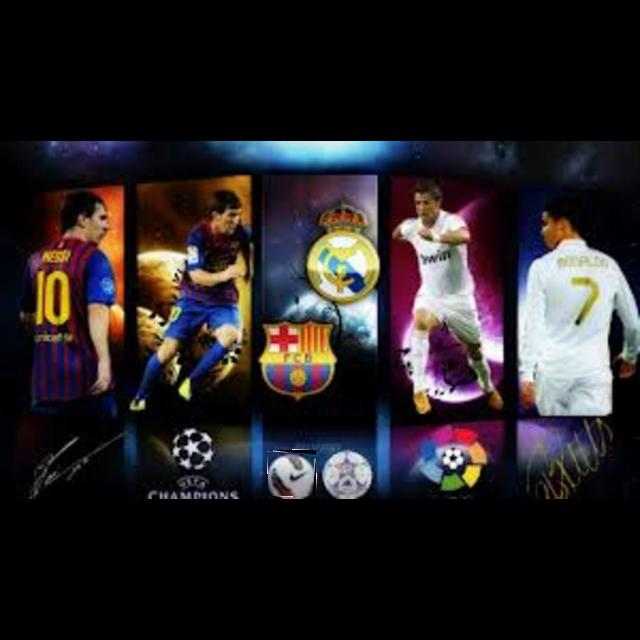Football: (268, 450, 316, 496)
